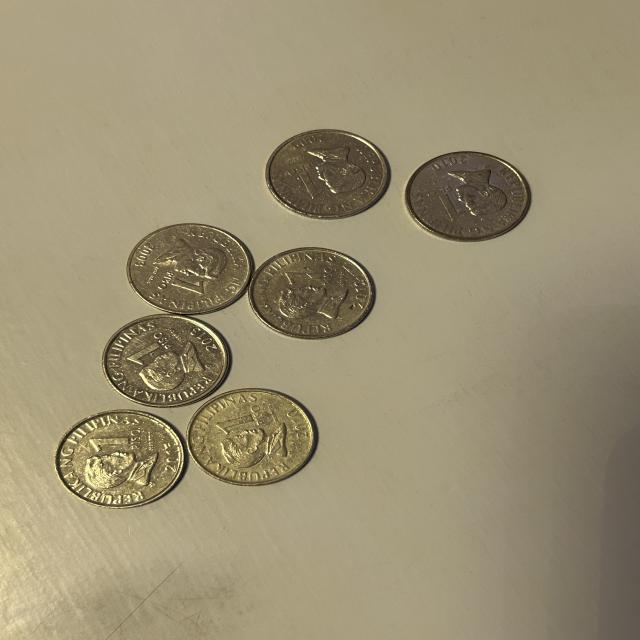1_Old_Front: (207, 404, 276, 435), (122, 330, 179, 364), (155, 268, 210, 301), (86, 428, 150, 456), (281, 162, 328, 200), (280, 267, 339, 293), (427, 185, 465, 222)
